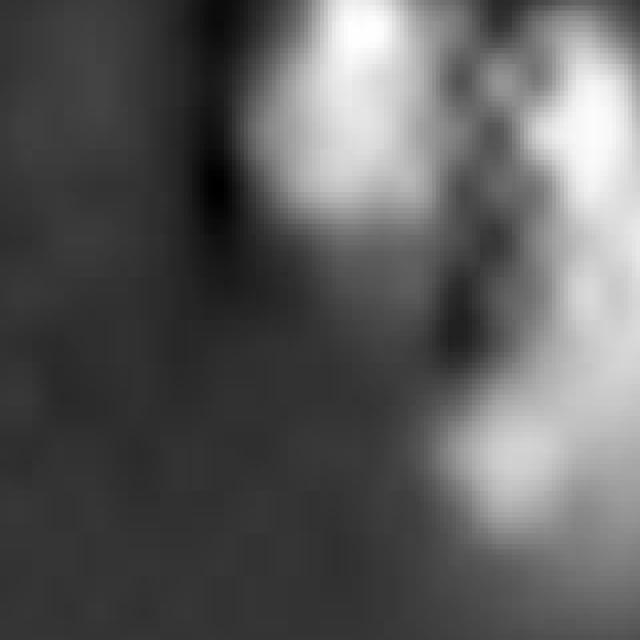person: (441, 1, 640, 640), (249, 1, 501, 305)
